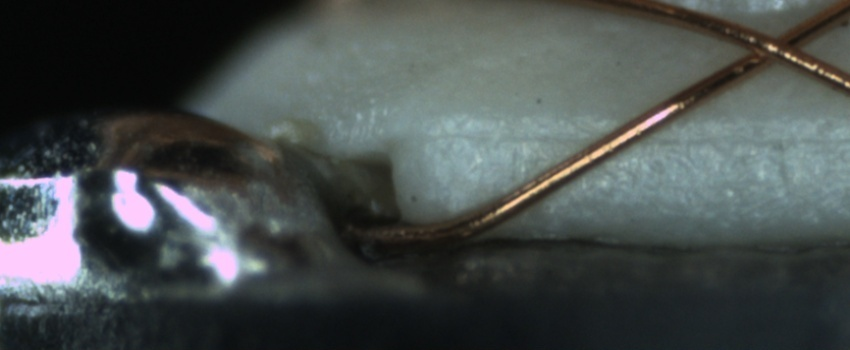CL: (726, 17, 827, 76)
DL: (418, 104, 849, 166)
